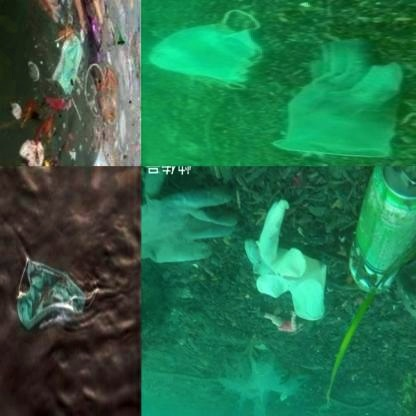Mask: (143, 9, 266, 90), (14, 253, 99, 334), (50, 32, 84, 96)
glove: (274, 36, 404, 160), (244, 198, 327, 320), (141, 173, 238, 269)
